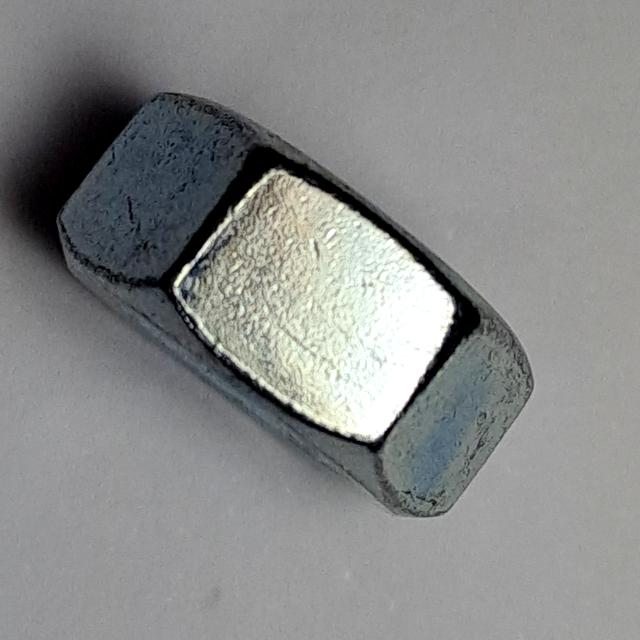Side_Excellent: (45, 81, 549, 528)
